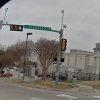Traffic light: (53, 30, 71, 63)
